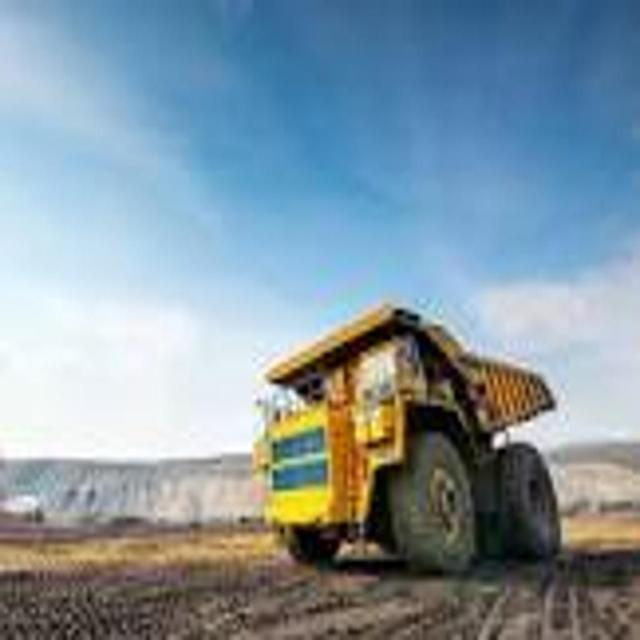dump_truck: (254, 273, 562, 592)
